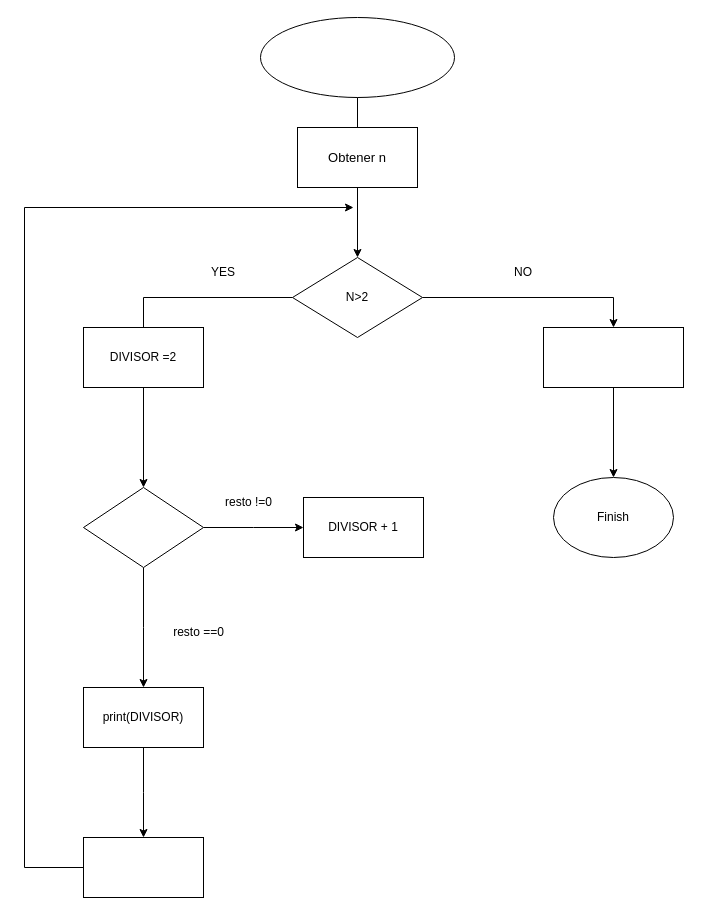
The diagram is 701 pixels wide and 915 high, and some of its shapes have lost their labels. The shapes that lost their labels are listed below. From the top down, each one's box as (x1, y1, x2, y2) in pixels, then its label:
(260, 16, 454, 98): START (N)
(542, 326, 684, 388): PRINT 1
(82, 486, 204, 568): N / DIVISOR
(82, 836, 204, 898): N = N/DIVISOR
